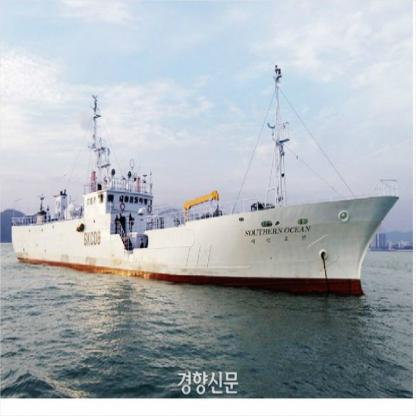fish-b: (11, 55, 402, 302)
